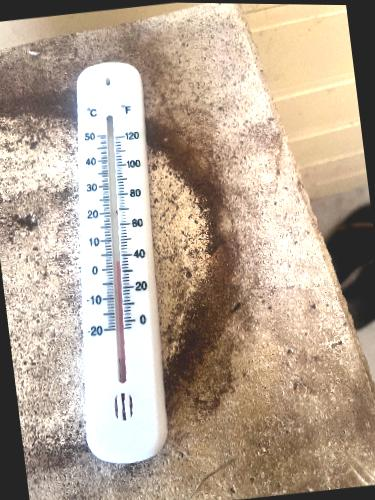thermo: (58, 62, 167, 456)
